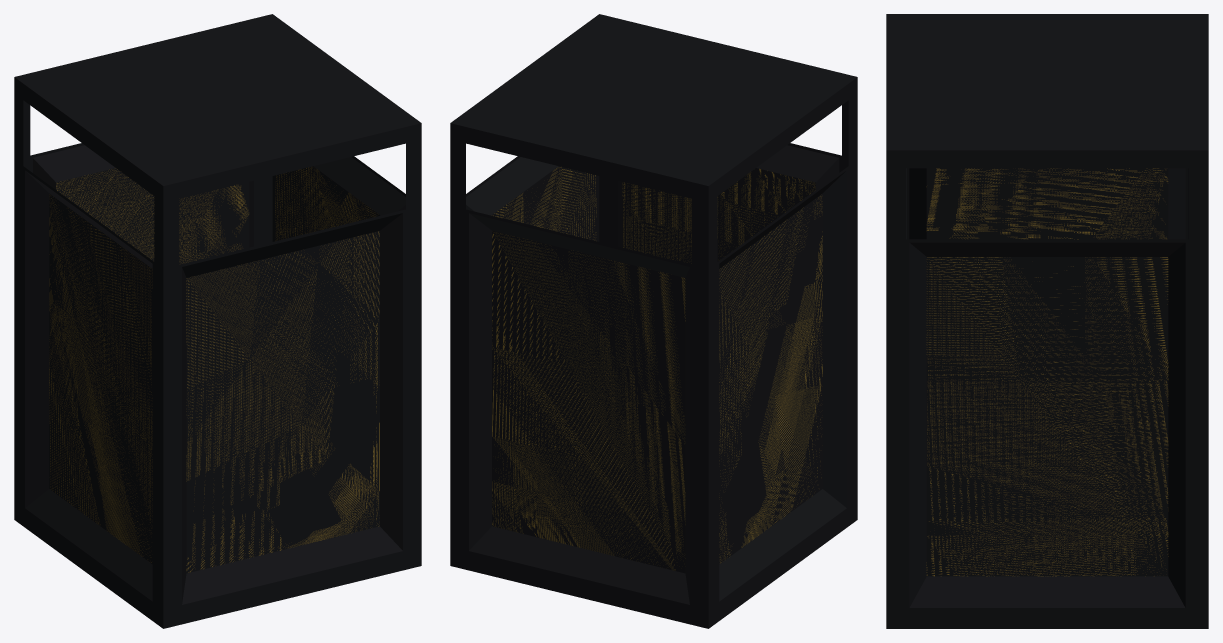
File: TrashCanV2.fbx
3 renders of one model, left to right at view 1: azimuth 30°, elevation 25°; view 2: azimuth 150°, elevation 25°; view 3: azimuth 270°, elevation 25°, orthographic. The views are drawn at different scales.
Parts seen in each view (by area): view 1: Cube; view 2: Cube; view 3: Cube.
Boxes of the visible parts, left/top/right/bottom form: Cube: left=14, top=14, right=421, bottom=628; Cube: left=450, top=14, right=857, bottom=628; Cube: left=886, top=14, right=1208, bottom=628.
Bounding box in the file's own units: 200 × 328 × 200.
